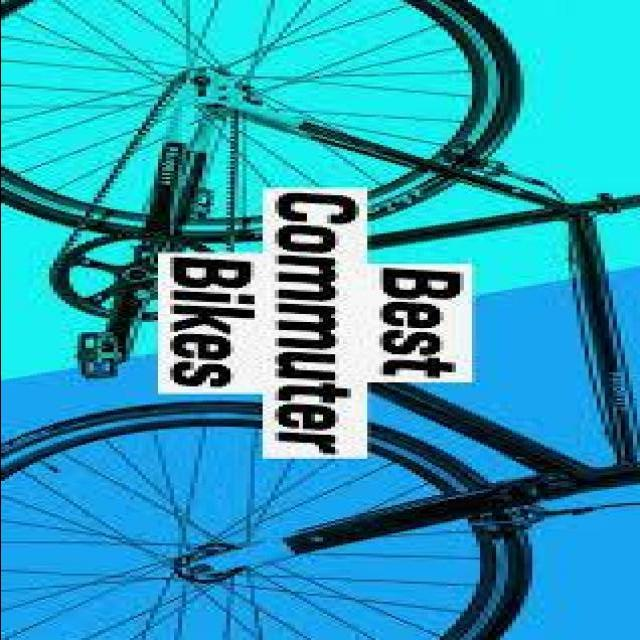bicycle: (5, 3, 637, 640)
